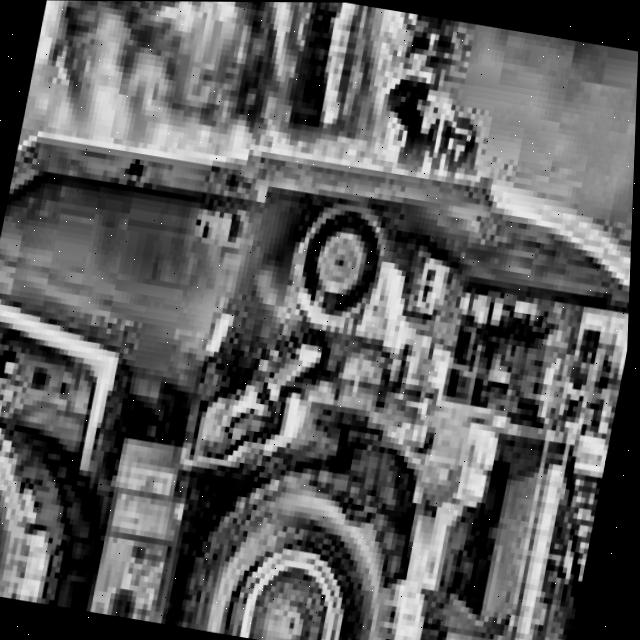dump_truck: (0, 95, 637, 640)
